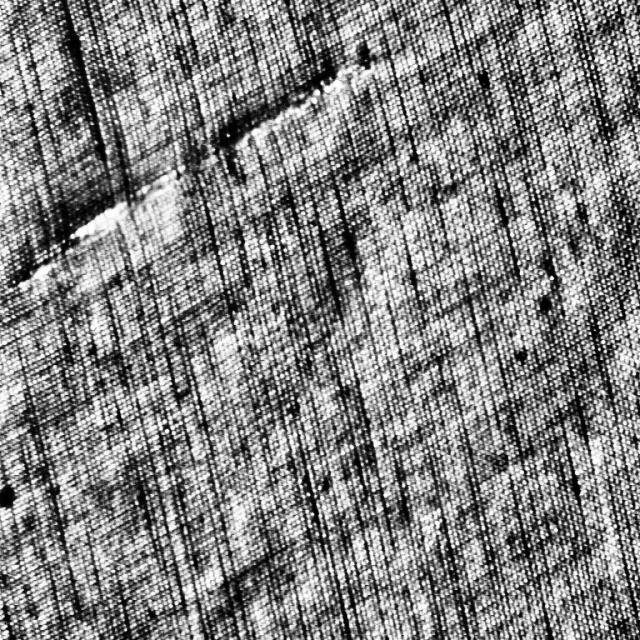Stitch: (2, 60, 358, 290)
